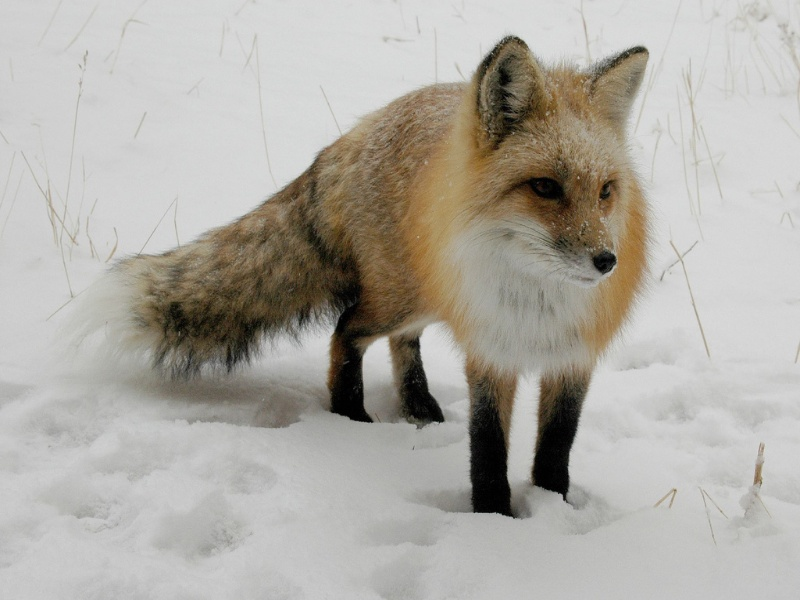fox: (61, 39, 663, 528)
